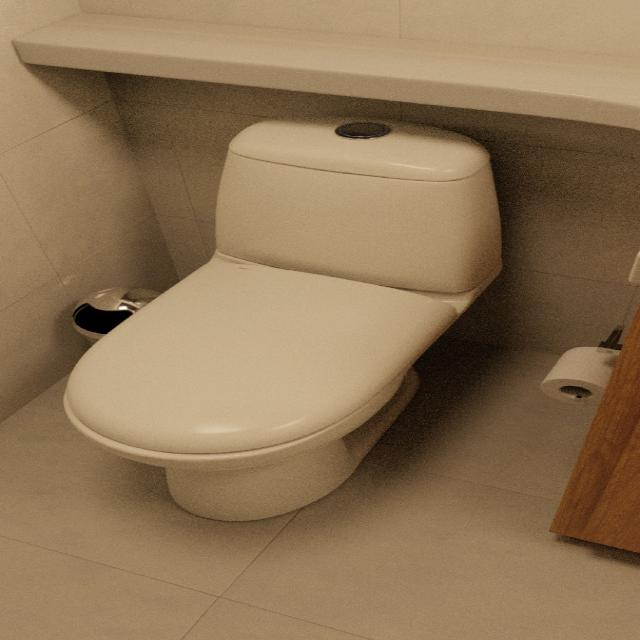toilet: (58, 107, 519, 526)
